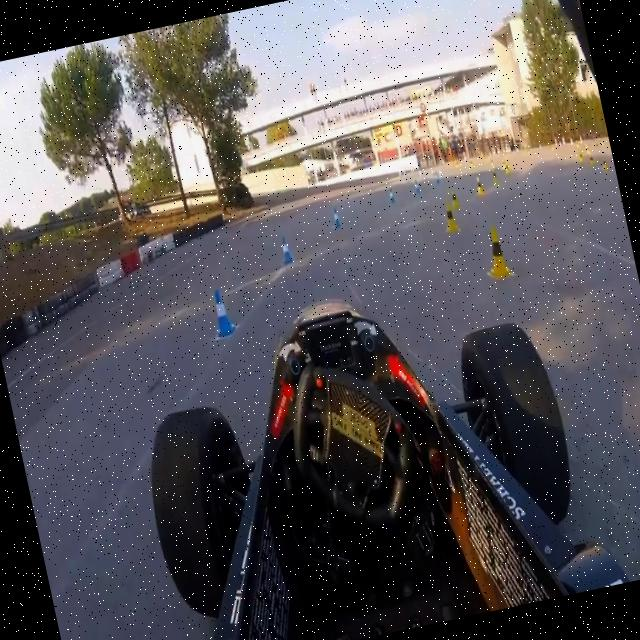blue_cone: (207, 284, 237, 339), (278, 234, 294, 265), (330, 206, 342, 228), (386, 186, 396, 205)
yellow_cone: (480, 224, 512, 282), (440, 199, 462, 235), (448, 185, 462, 212), (472, 172, 486, 198)
